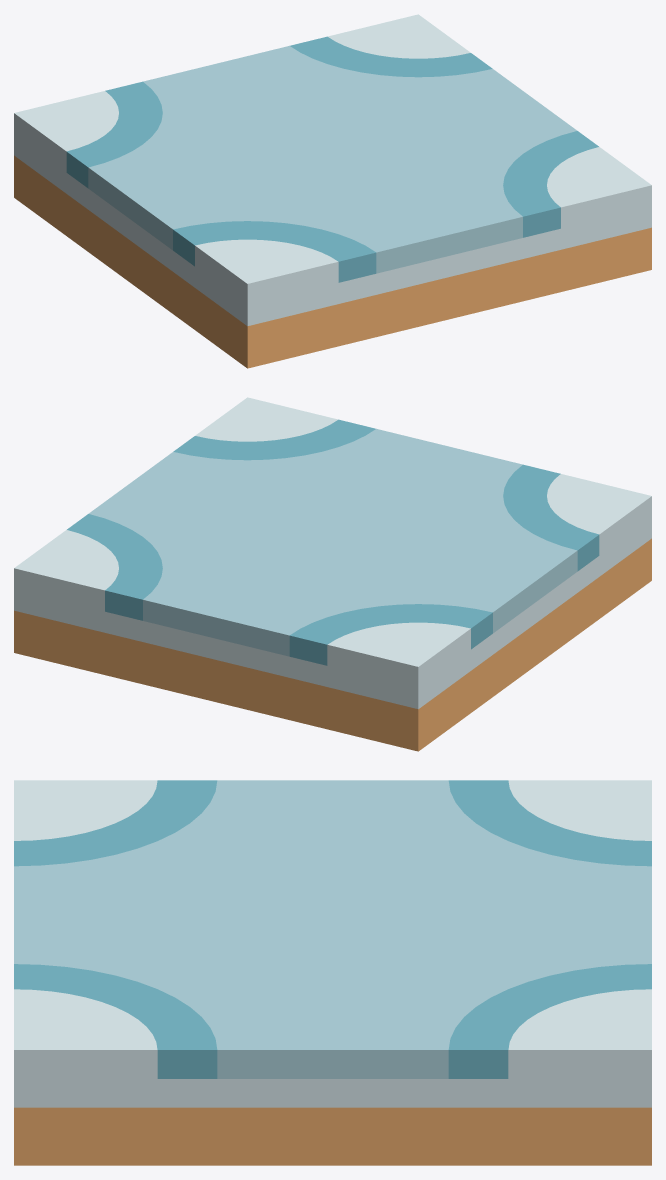
The model's file is snow_tile_crossing(+).fbx.
3 renders of one model, top to bottom at view 1: azimuth 30°, elevation 25°; view 2: azimuth 150°, elevation 25°; view 3: azimuth 270°, elevation 25°, orthographic. The views are drawn at different scales.
Visible parts, largest first — view 1: Mesh_0; view 2: Mesh_0; view 3: Mesh_0.
Boxes of the visible parts, box(x1,y1,x2,y2) form: Mesh_0: box(14, 14, 651, 368); Mesh_0: box(14, 397, 651, 751); Mesh_0: box(14, 780, 651, 1165).
Size of the model in its own units: 100 by 20 by 100.
